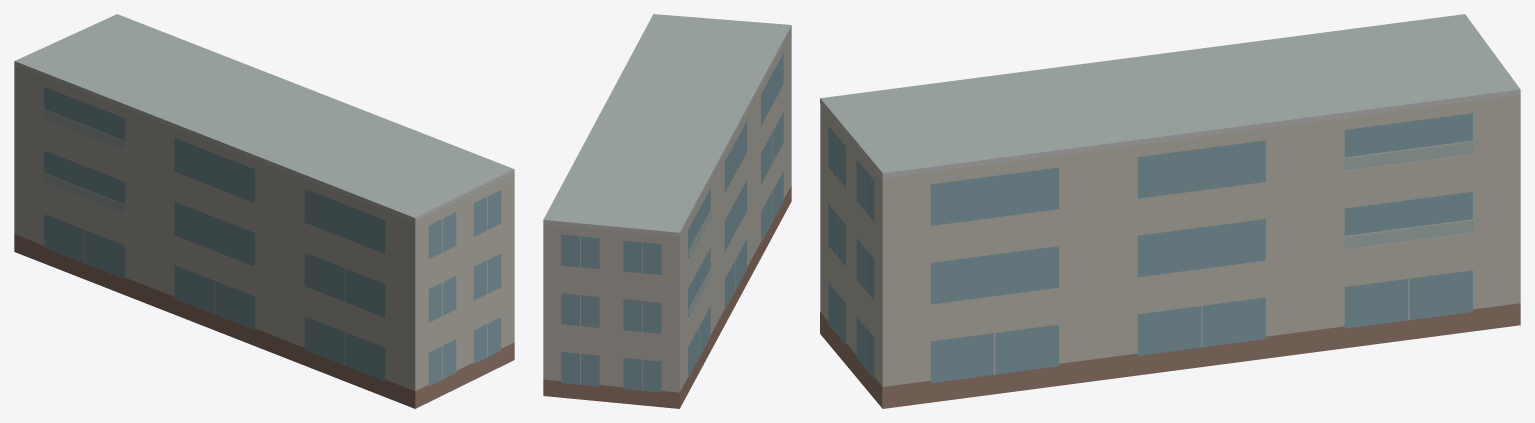
File: survey-upis-32642117.glb
The picture shows the model from 3 angles, left to right: view 1: azimuth 30°, elevation 25°; view 2: azimuth 150°, elevation 25°; view 3: azimuth 270°, elevation 25°; orthographic projection. The views are drawn at different scales.
Visible parts, largest first — view 1: survey-upis-32642117.tmp; view 2: survey-upis-32642117.tmp; view 3: survey-upis-32642117.tmp.
Boxes of the visible parts, left/top/right/bottom form: survey-upis-32642117.tmp: left=14, top=14, right=514, bottom=408; survey-upis-32642117.tmp: left=543, top=14, right=791, bottom=408; survey-upis-32642117.tmp: left=820, top=14, right=1520, bottom=408.
Size of the model in its own units: 15.23 by 10.5 by 28.3.
